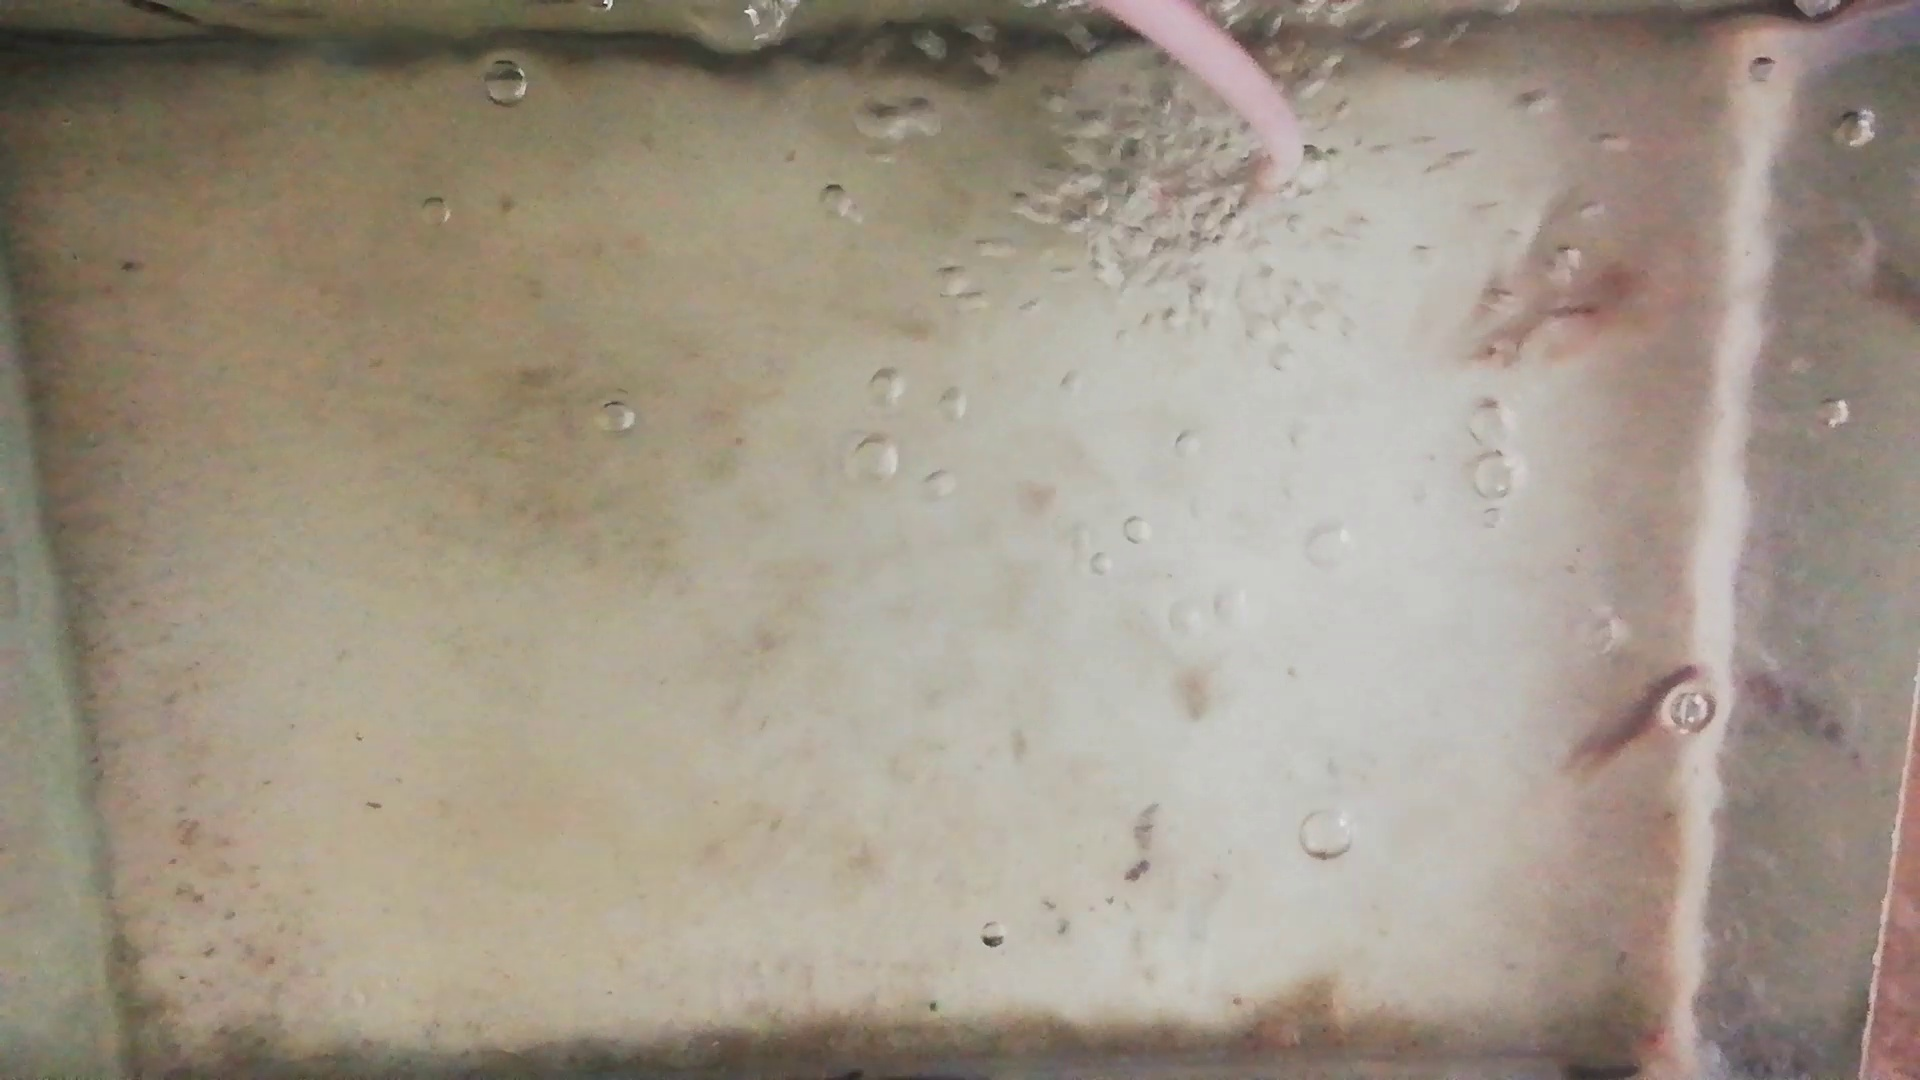fish: (1470, 258, 1650, 360), (1572, 665, 1710, 767)
